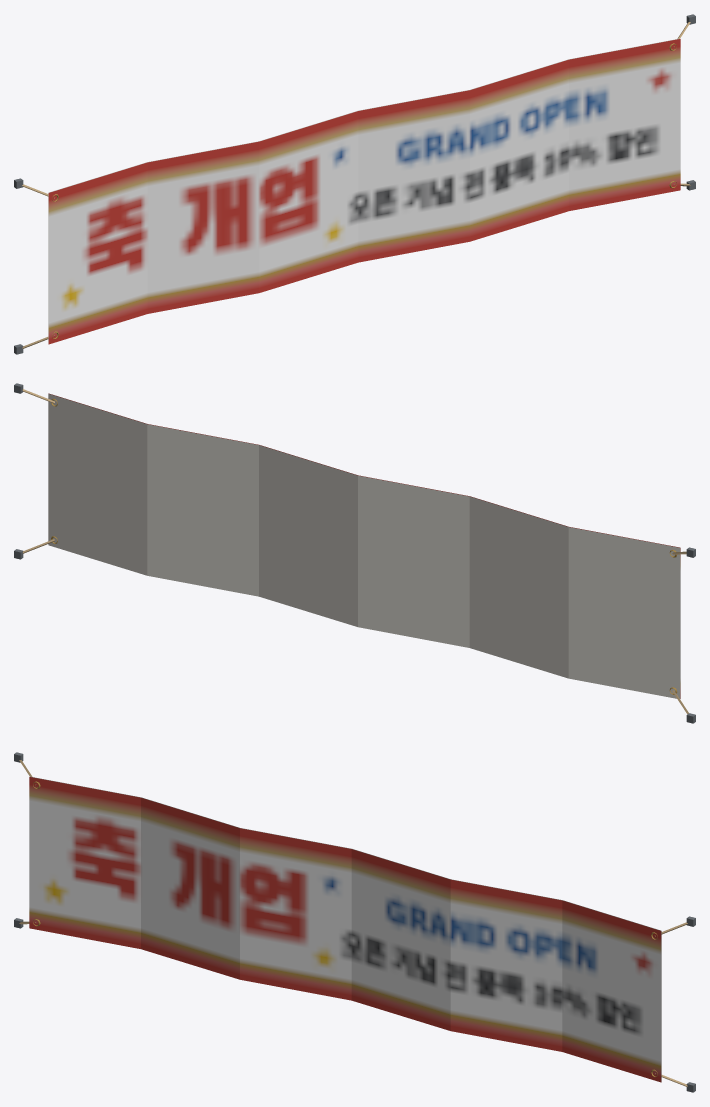
Rendered from SC_Shop_Banner_Grand_Opening.gltf.
The picture shows the model from 3 angles, top to bottom: view 1: azimuth 30°, elevation 25°; view 2: azimuth 150°, elevation 25°; view 3: azimuth 330°, elevation 25°; orthographic projection.
Parts seen in each view (by area): view 1: SC_Shop_Banner_Grand_Opening; view 2: SC_Shop_Banner_Grand_Opening; view 3: SC_Shop_Banner_Grand_Opening.
Boxes of the visible parts, x1,y1,x2,y2 form: SC_Shop_Banner_Grand_Opening: [14, 14, 695, 354]; SC_Shop_Banner_Grand_Opening: [14, 383, 695, 723]; SC_Shop_Banner_Grand_Opening: [14, 752, 695, 1092].
Bounding box in the file's own units: 3.01 × 0.7317 × 0.0851.
2 materials, 2 textured.
